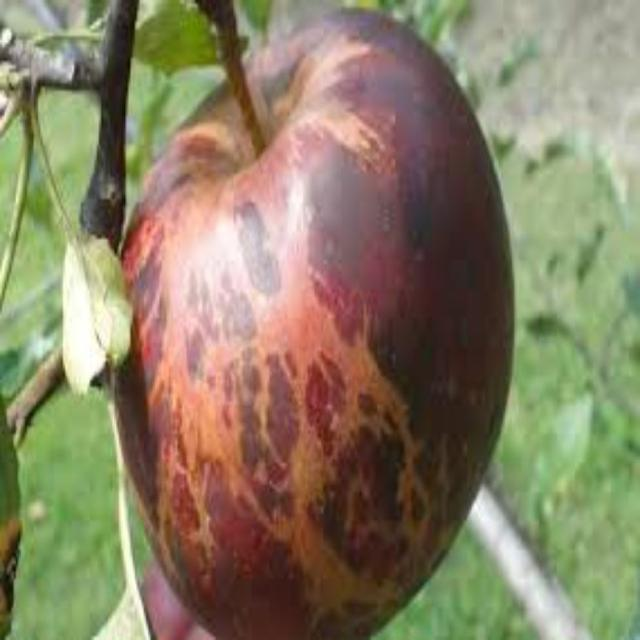Rotten Apple: (114, 14, 534, 610)
